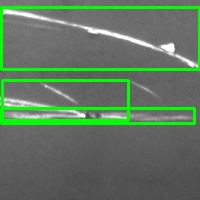scratches: (1, 7, 199, 69), (2, 80, 128, 120), (1, 108, 194, 123)
